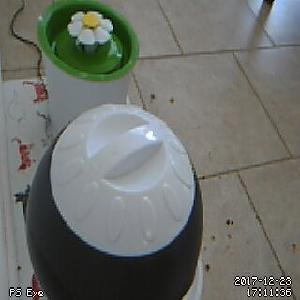fountain: (35, 1, 141, 84)
